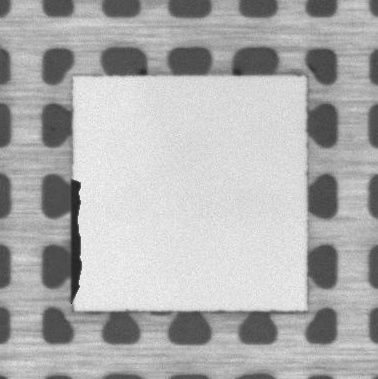DIE_BROKEN: (68, 172, 84, 300)
